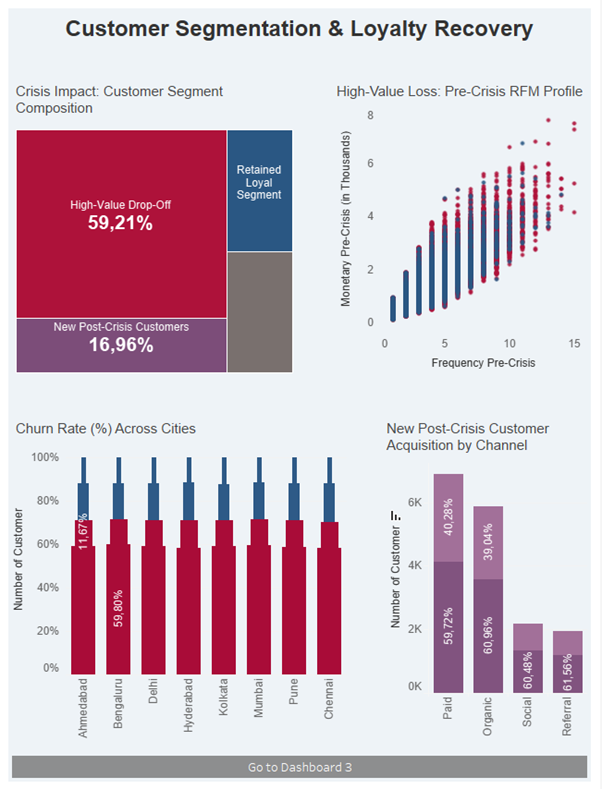

What the dashboard file says about the page in this screenshot:
{"tool":"tableau","page":{"name":"Dashboard 2","canvas":[650,860],"ordinal":1},"visuals":[{"type":"text","box":[10,10,630,44.6]},{"type":"blank","box":[10,54.7,630,32.1]},{"type":"worksheet","title":"TreeMap","mark":"Automatic","box":[10,86.7,315,343.3]},{"type":"blank","box":[325,86.7,31.8,343.3]},{"type":"worksheet","title":"F/M","mark":"Automatic","rows":["Calculation_59672705739939878"],"cols":["frequency_pre"],"box":[356.8,86.7,283.2,343.3]},{"type":"blank","box":[10,430,630,37.3]},{"type":"worksheet","title":"Cust-City","mark":"Bar","cols":["customer_city"],"box":[10,467.3,369.7,382.6]},{"type":"blank","box":[379.7,467.3,31.8,382.6]},{"type":"worksheet","title":"NewCust","mark":"Automatic","rows":["customer_id"],"cols":["acquisition_channel"],"box":[411.4,467.3,228.6,382.6]}]}

Visuals, with their boxes in screenshot pixels (x1, y1, x2, y2), scaled from the page's 650x860 canvas onto the 602x789 screenshot:
text: x1=9, y1=9, x2=593, y2=50
blank: x1=9, y1=50, x2=593, y2=80
"TreeMap" worksheet: x1=9, y1=80, x2=301, y2=394
blank: x1=301, y1=80, x2=330, y2=394
"F/M" worksheet: x1=330, y1=80, x2=593, y2=394
blank: x1=9, y1=394, x2=593, y2=429
"Cust-City" worksheet (Bar marks): x1=9, y1=429, x2=352, y2=780
blank: x1=352, y1=429, x2=381, y2=780
"NewCust" worksheet: x1=381, y1=429, x2=593, y2=780
